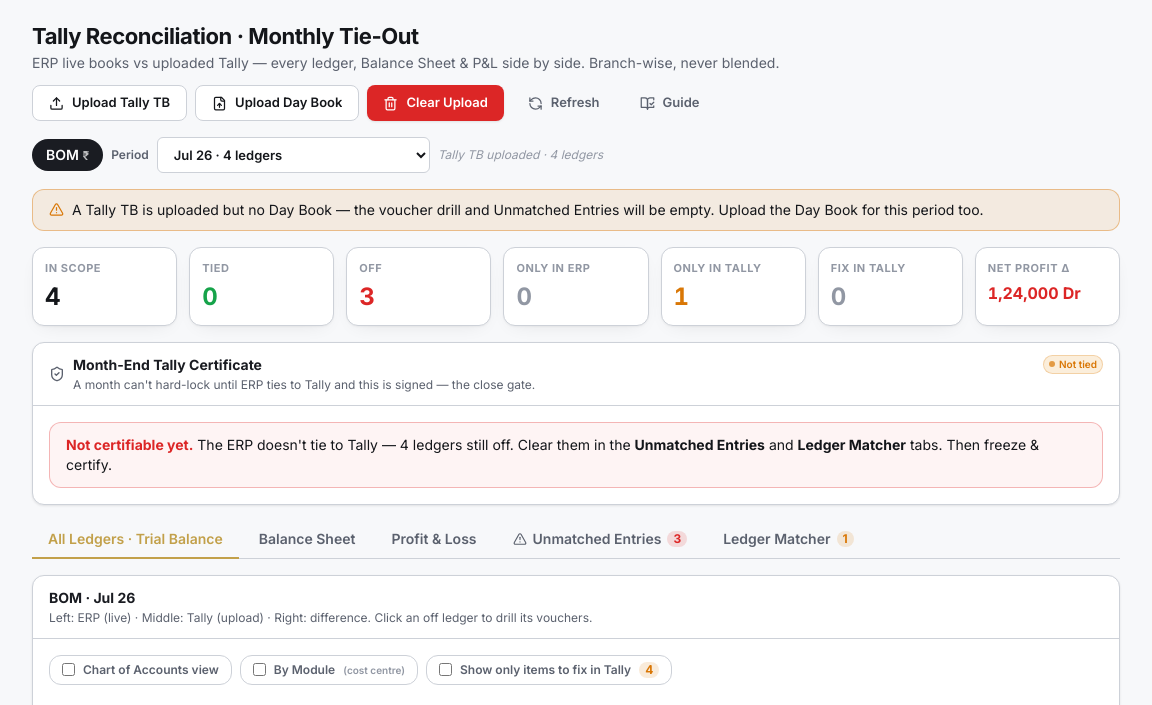
Test: Tally Reconciliation · tie-out board render › Unmatched Entries tab shows the by-side register (Phase 2)
Click the button "Unmatched Entries 3" at point(600, 540), box [496,520,703,558]
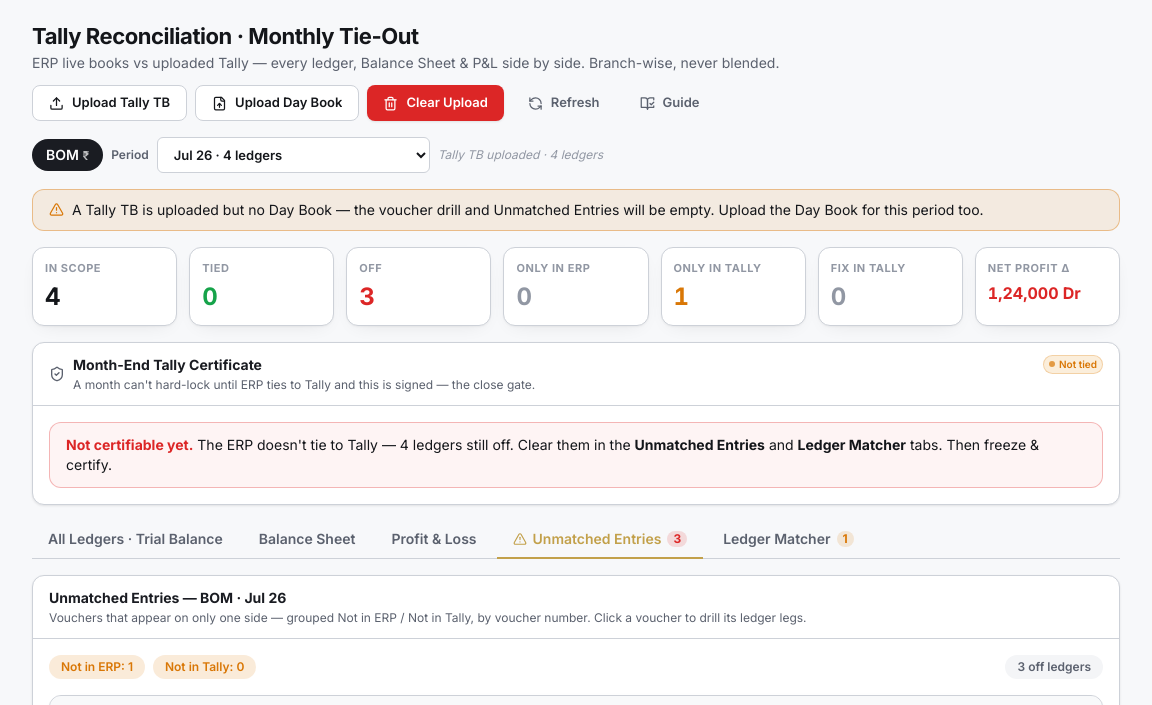
Expected: the text "Not in ERP: 1" is shown, [49,654,145,678]
Expected: the text "3 off ledgers" is shown, [1006,654,1103,678]
